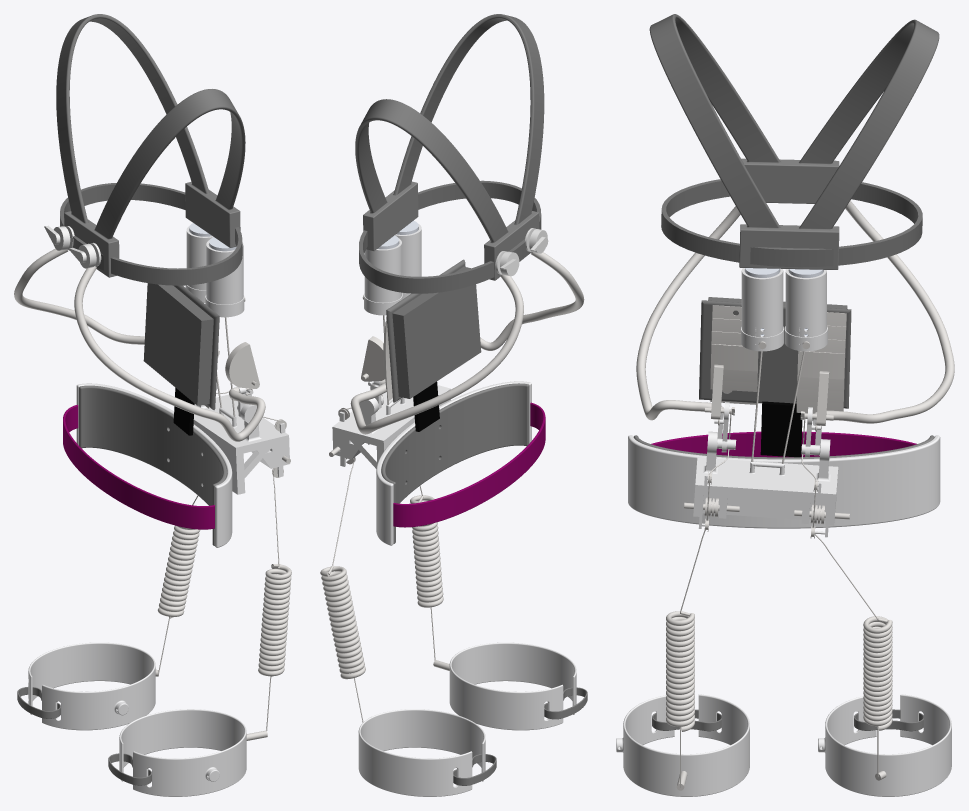
The model's file is Golden.glb.
The picture shows the model from 3 angles, left to right: view 1: azimuth 30°, elevation 25°; view 2: azimuth 150°, elevation 25°; view 3: azimuth 270°, elevation 25°; orthographic projection. The views are drawn at different scales.
Visible parts, largest first — view 1: ASSEMBLY; view 2: ASSEMBLY; view 3: ASSEMBLY.
Boxes of the visible parts, x1,y1,x2,y2 form: ASSEMBLY: (14, 14, 291, 796); ASSEMBLY: (320, 14, 587, 796); ASSEMBLY: (616, 14, 954, 796).
Size of the model in its own units: 0.2734 by 0.8889 by 0.3599.
